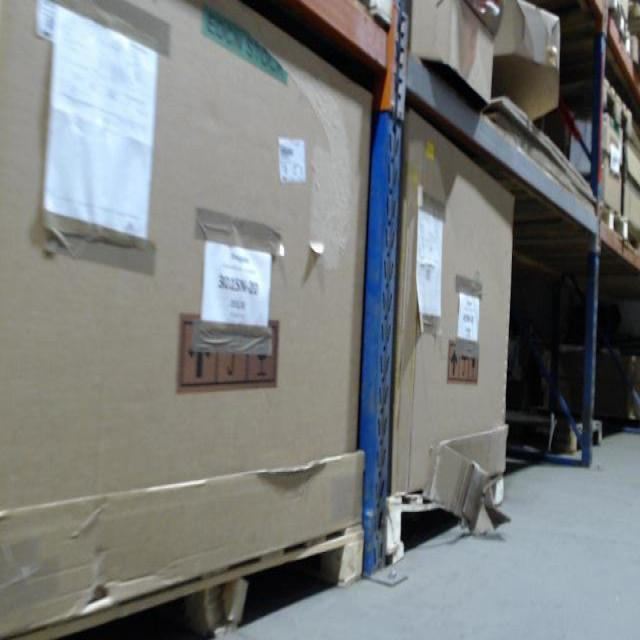pallet: (2, 523, 362, 638), (376, 462, 511, 566), (510, 412, 608, 461), (600, 69, 639, 146), (591, 203, 639, 262)
